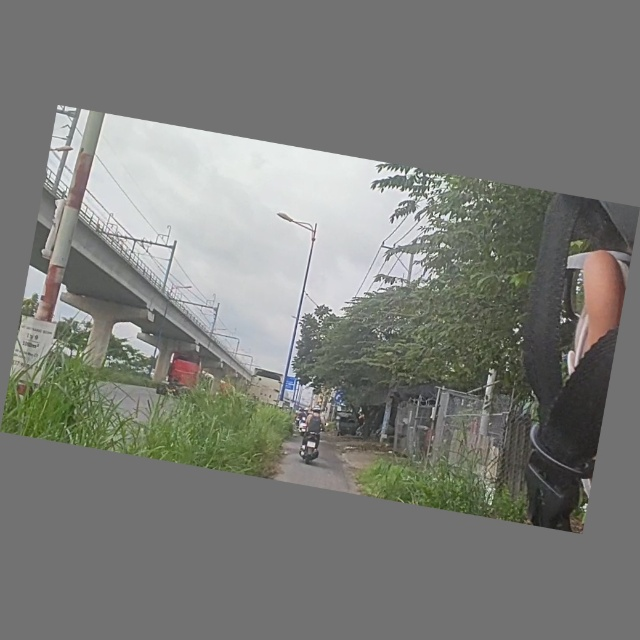I.409: (334, 393, 346, 405)
